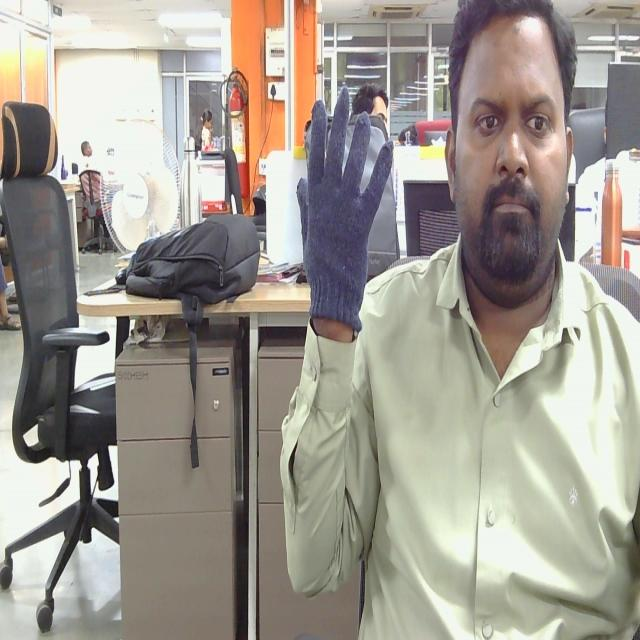Gloves-Detection: (291, 84, 385, 328)
